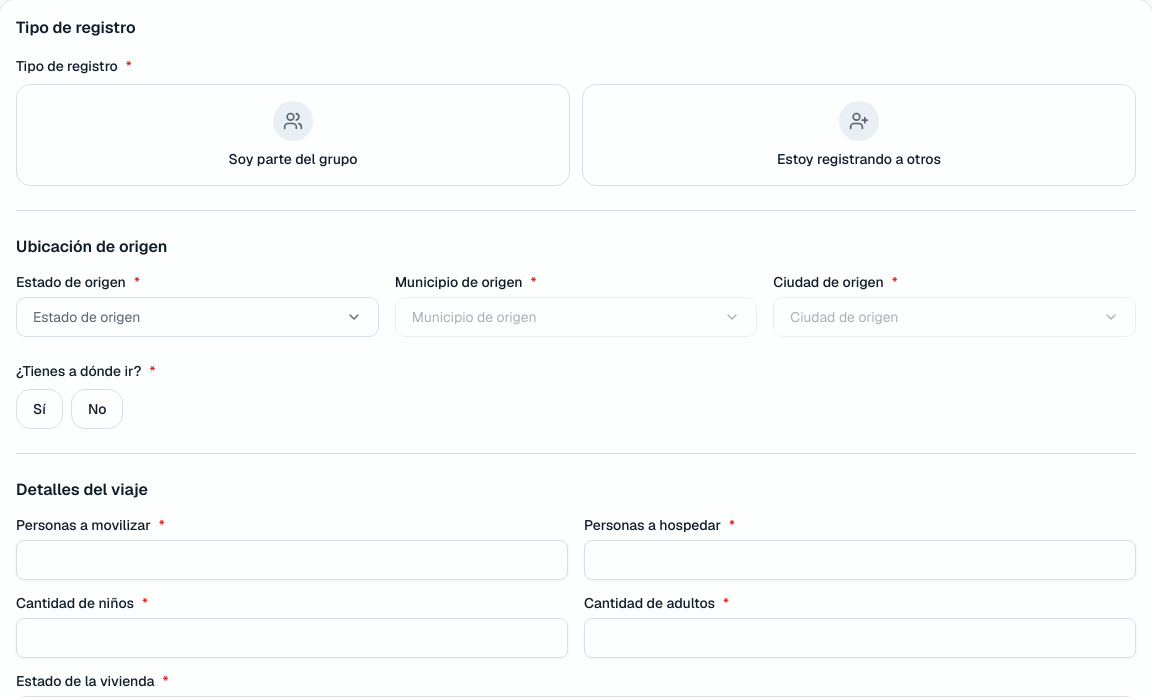
TravelRequestForm › only shows the destination section when the answer to 'do you have somewhere to go' is yes
Check: the dropdown labelled "Estado de destino" is not shown
Click the radio button labelled "Sí": (39, 409) [16,389,63,429]
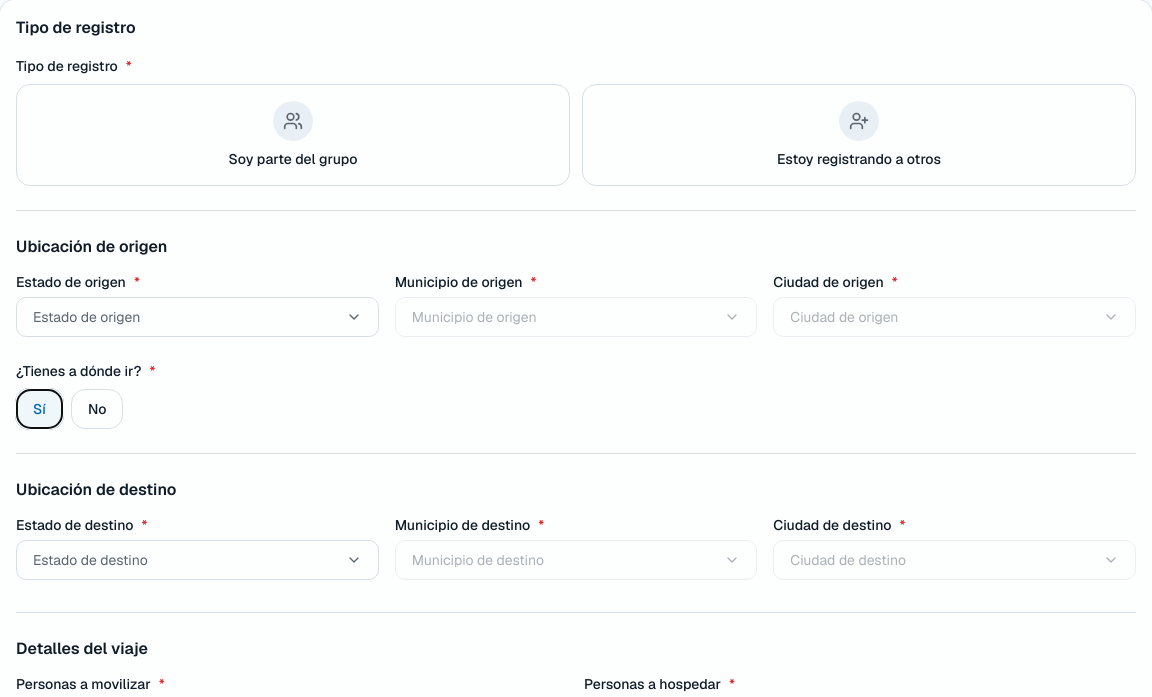
Check: the dropdown labelled "Estado de destino" is shown, box [16,540,379,580]
Click the radio button labelled "No": (97, 409) [71,389,123,429]
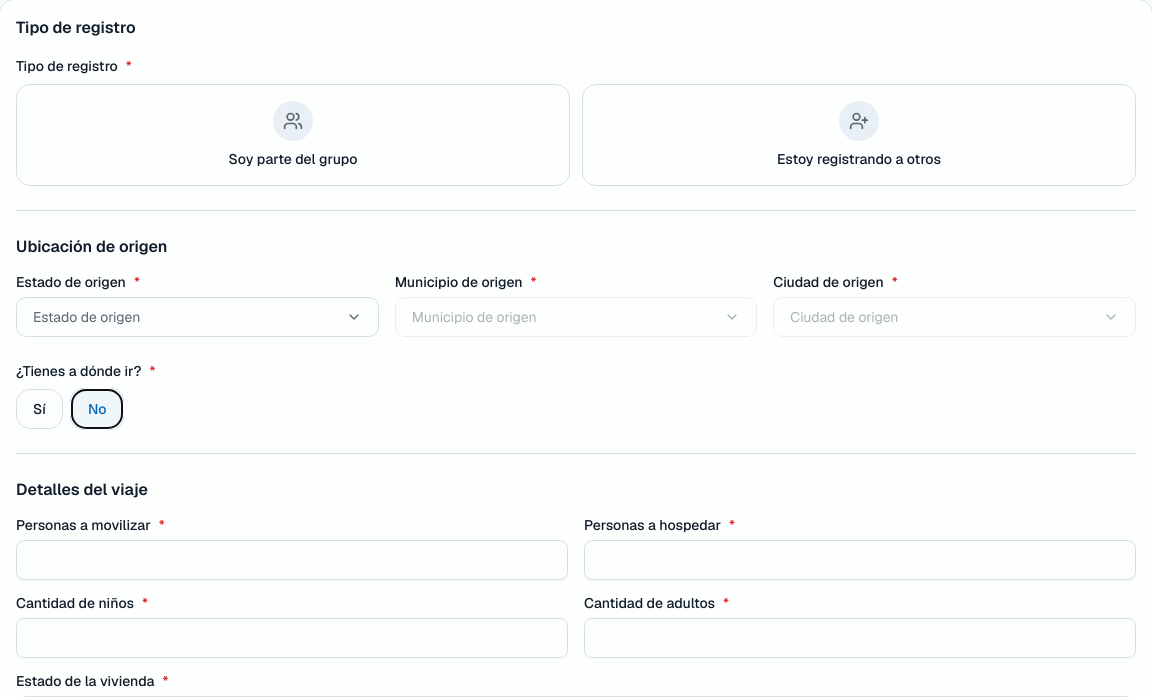
Check: the label "Estado de destino" is gone
